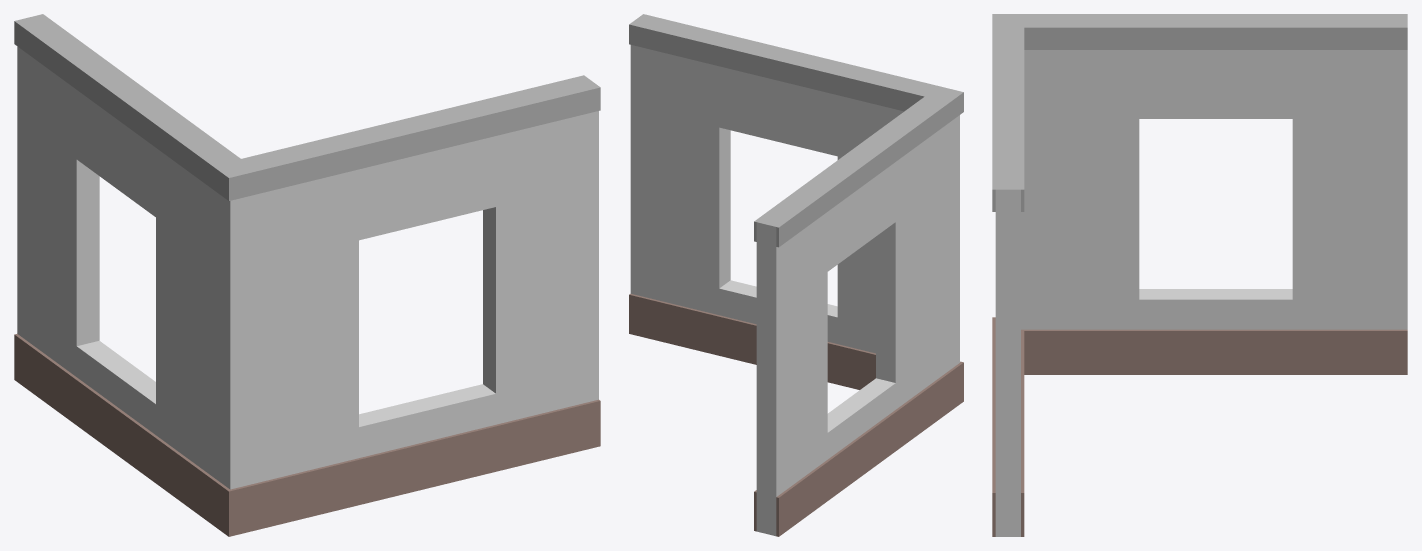
The model's file is Wall04-04.fbx.
The picture shows the model from 3 angles, left to right: view 1: azimuth 30°, elevation 25°; view 2: azimuth 150°, elevation 25°; view 3: azimuth 270°, elevation 25°; orthographic projection. The views are drawn at different scales.
Visible parts, largest first — view 1: Wall04-04; view 2: Wall04-04; view 3: Wall04-04.
Boxes of the visible parts, left/top/right/bottom form: Wall04-04: left=14, top=14, right=600, bottom=536; Wall04-04: left=629, top=14, right=963, bottom=536; Wall04-04: left=992, top=14, right=1407, bottom=536.
Size of the model in its own units: 3.25 by 3.25 by 3.
